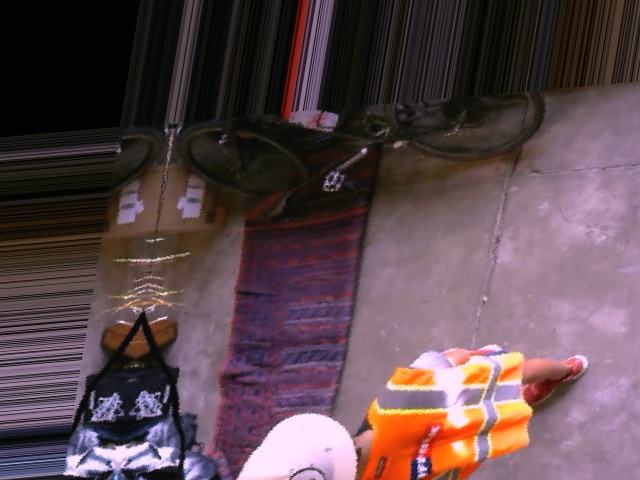three: (279, 465, 328, 479)
